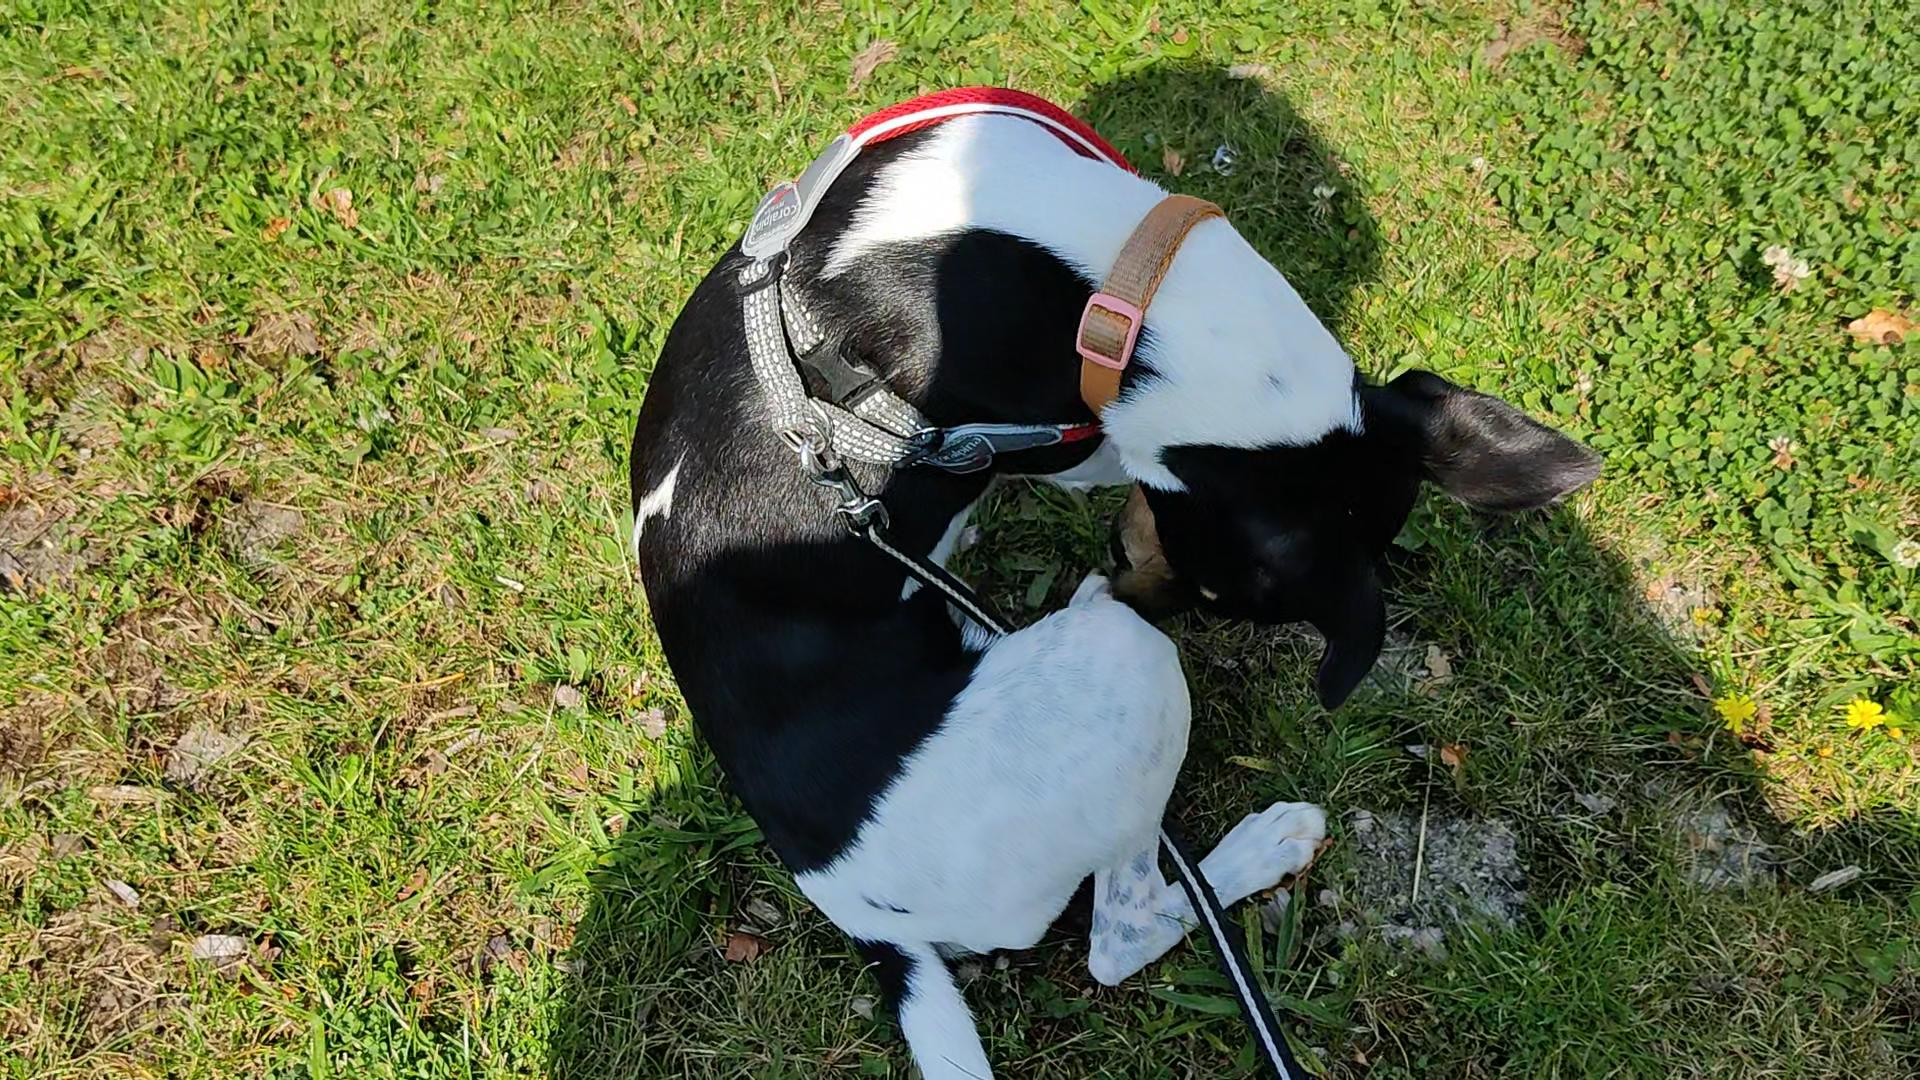Dog: (626, 84, 1611, 1079)
